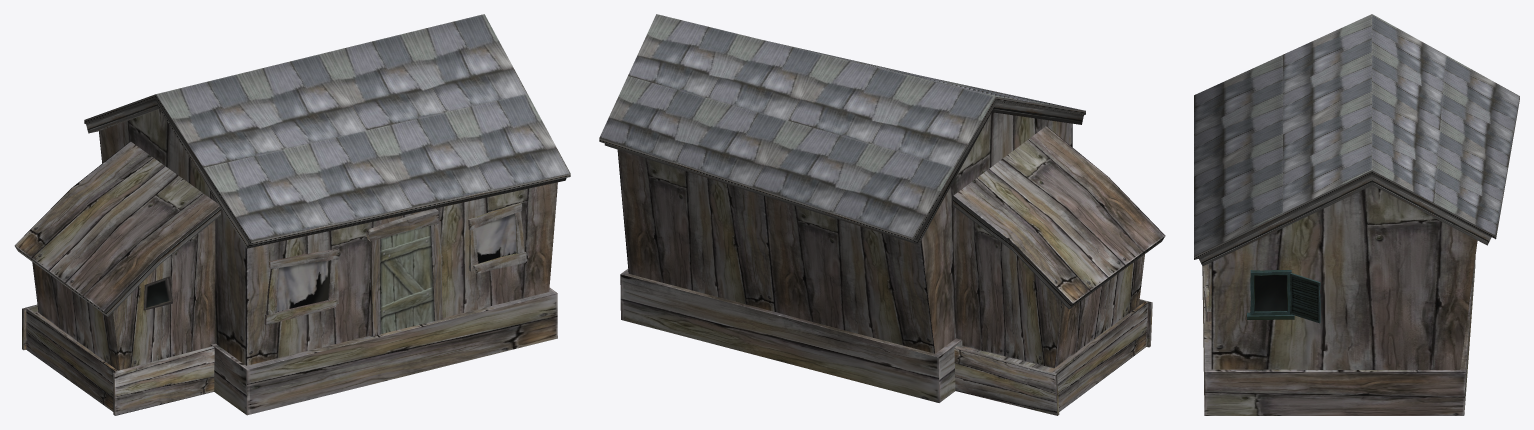
Rendered from shanty_npc_house_combo_J.fbx.
The picture shows the model from 3 angles, left to right: view 1: azimuth 30°, elevation 25°; view 2: azimuth 150°, elevation 25°; view 3: azimuth 270°, elevation 25°; orthographic projection. The views are drawn at different scales.
Visible parts, largest first — view 1: house_geo, penthouseroof, platform, penthouse, balconyfloormain1, door_right, curtain1, group1, door_frame_3, door_frame_2, door_frame_1, wood17.001 (+4 smaller); view 2: house_geo, penthouseroof, platform, penthouse, balconyfloormain1; view 3: house_geo, platform, shutter, Glass, woodFrame.
Boxes of the visible parts, left/top/right/bottom form: house_geo: left=84, top=14, right=570, bottom=365; penthouseroof: left=14, top=141, right=220, bottom=316; platform: left=210, top=288, right=557, bottom=415; penthouse: left=32, top=220, right=215, bottom=370; balconyfloormain1: left=22, top=304, right=216, bottom=415; door_right: left=380, top=226, right=434, bottom=333; curtain1: left=276, top=260, right=330, bottom=311; group1: left=476, top=213, right=516, bottom=263; door_frame_3: left=365, top=208, right=439, bottom=241; door_frame_2: left=370, top=239, right=380, bottom=336; door_frame_1: left=430, top=220, right=442, bottom=321; wood17.001: left=264, top=299, right=336, bottom=325; house_geo: left=599, top=14, right=1085, bottom=353; penthouseroof: left=953, top=126, right=1165, bottom=309; platform: left=620, top=269, right=962, bottom=402; penthouse: left=956, top=209, right=1144, bottom=368; balconyfloormain1: left=954, top=299, right=1152, bottom=415; house_geo: left=1194, top=14, right=1519, bottom=369; platform: left=1202, top=257, right=1475, bottom=415; shutter: left=1290, top=273, right=1320, bottom=323; Glass: left=1254, top=275, right=1287, bottom=311; woodFrame: left=1246, top=270, right=1294, bottom=319.
Bounding box in the file's own units: 3477 × 1910 × 2240.
Materials: 3 (3 with a texture image).
